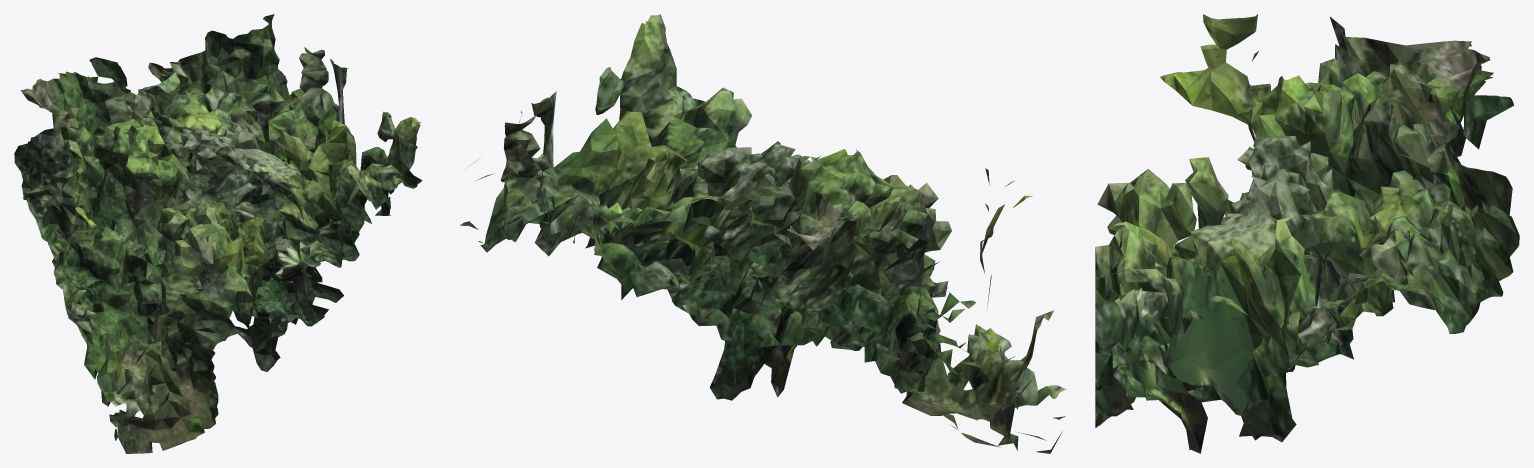
3 views of the same model, side by side, from view 1: azimuth 30°, elevation 25°; view 2: azimuth 150°, elevation 25°; view 3: azimuth 270°, elevation 25° (orthographic). The views are drawn at different scales.
Size of the model in its own units: 52.22 by 42.45 by 44.7.
7 materials, 7 textured.
